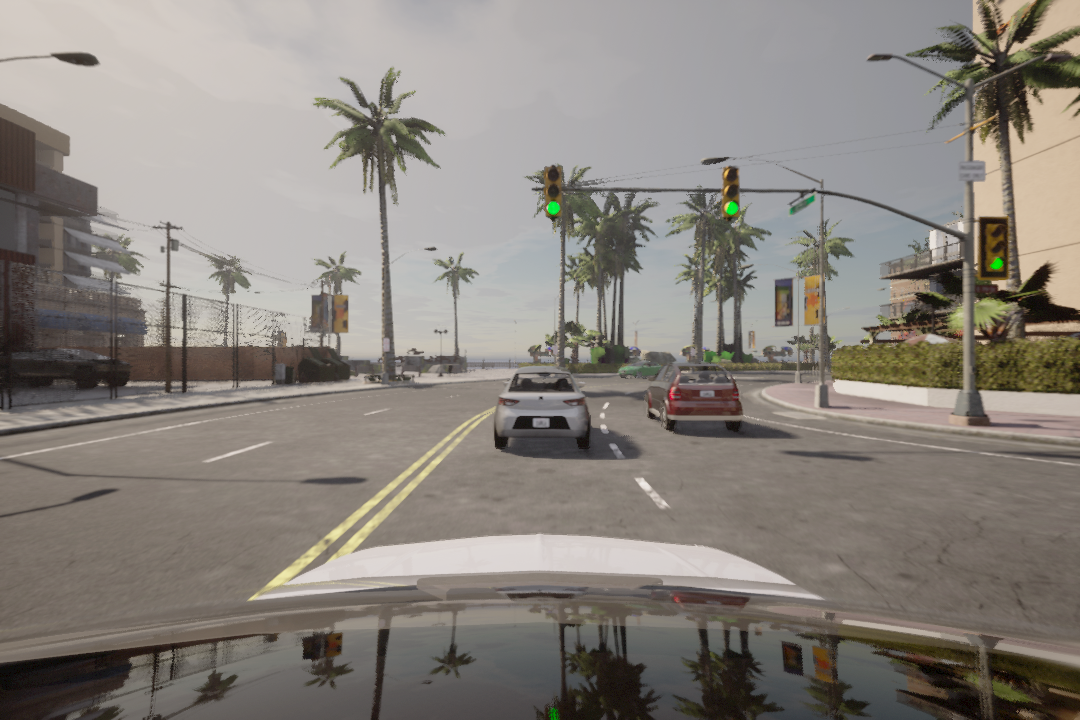TrafficLight: (976, 217, 1007, 279), (541, 160, 566, 221), (721, 166, 741, 221)
